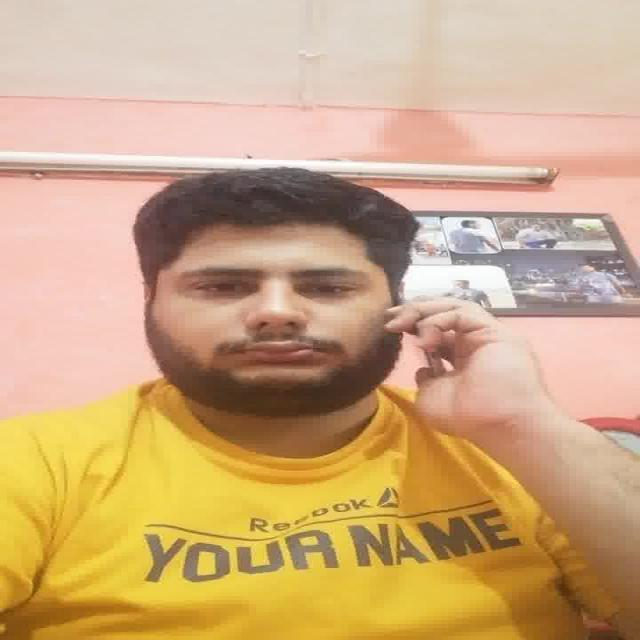Phone: (420, 335, 455, 378)
